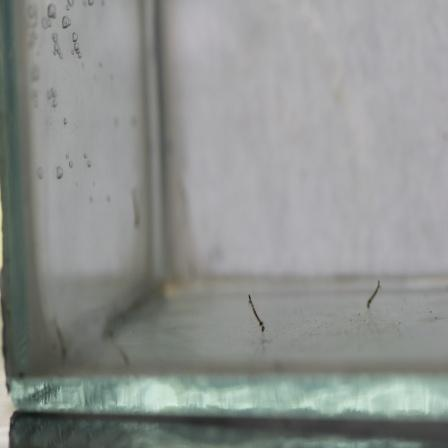Jentik-Nyamuk: (242, 291, 269, 335)
